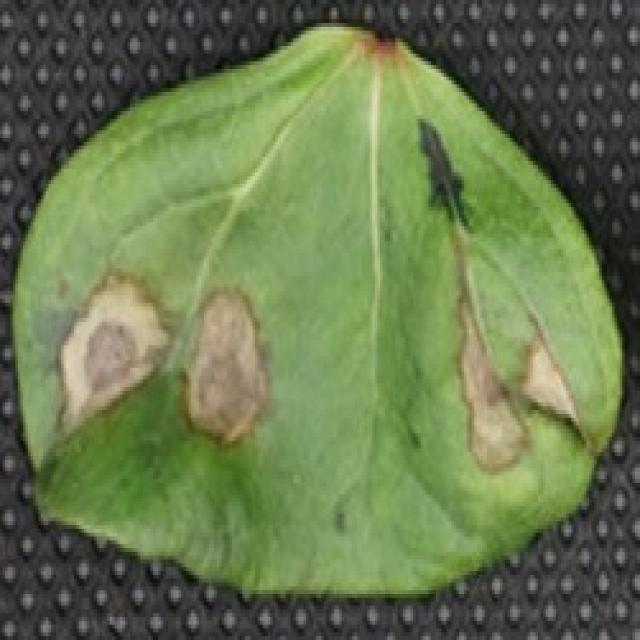Fusarium Wilt: (34, 246, 273, 477), (446, 273, 593, 463)
